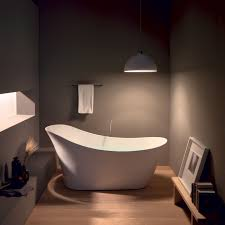bathub: (40, 119, 169, 189)
